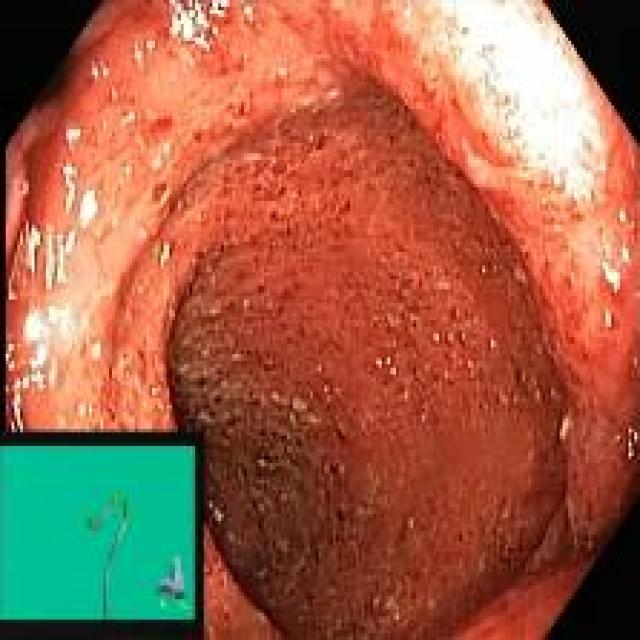ulcerative-colitis-grade-1: (8, 0, 640, 637)
